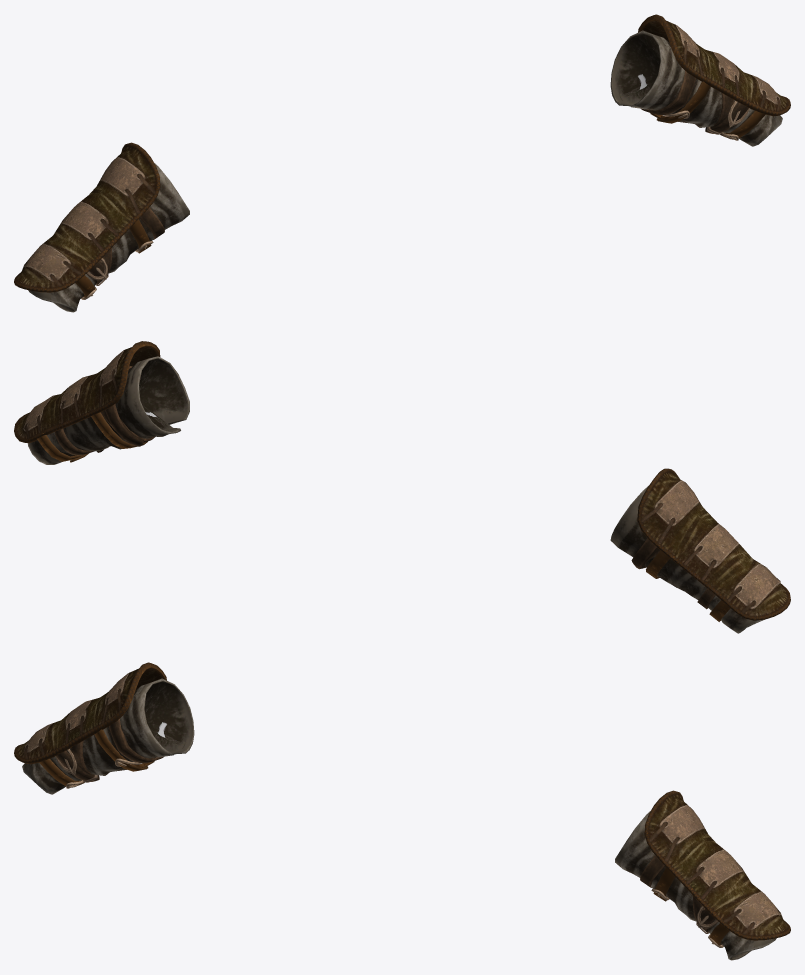
The model's file is dunland_caerdh_bracer_heavy_b.fbx.
3 views of the same model, one above another, from view 1: azimuth 30°, elevation 25°; view 2: azimuth 150°, elevation 25°; view 3: azimuth 330°, elevation 25° (orthographic).
Visible parts, largest first — view 1: dunland_caerdh_bracer_heavy_b.metal, dunland_caerdh_bracer_heavy_b; view 2: dunland_caerdh_bracer_heavy_b.metal, dunland_caerdh_bracer_heavy_b; view 3: dunland_caerdh_bracer_heavy_b.metal, dunland_caerdh_bracer_heavy_b.
Boxes of the visible parts, box(x1,y1,x2,y2) form: dunland_caerdh_bracer_heavy_b.metal: box(14, 14, 790, 299); dunland_caerdh_bracer_heavy_b: box(28, 30, 782, 312); dunland_caerdh_bracer_heavy_b.metal: box(14, 341, 790, 621); dunland_caerdh_bracer_heavy_b: box(27, 356, 764, 633); dunland_caerdh_bracer_heavy_b.metal: box(14, 662, 790, 947); dunland_caerdh_bracer_heavy_b: box(22, 678, 776, 960).
Size of the model in its own units: 1.45 by 0.145 by 0.2542.
Materials: 1 (1 with a texture image).
